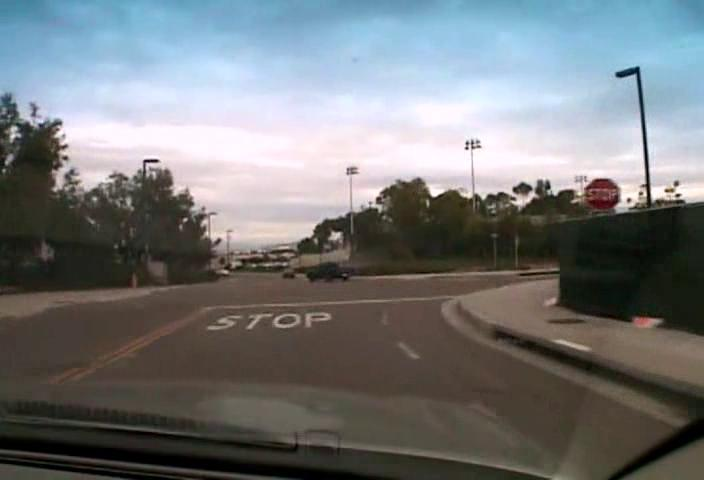stop: (584, 177, 621, 212)
